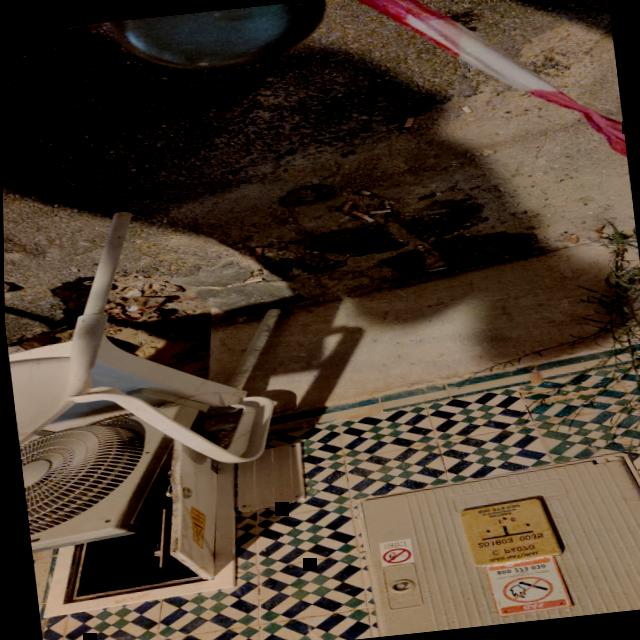Cigarette: (347, 209, 373, 221), (425, 264, 446, 271), (49, 323, 69, 330), (367, 207, 389, 213), (402, 115, 413, 126), (339, 200, 351, 209), (241, 277, 260, 282), (460, 104, 471, 112), (251, 246, 261, 254), (141, 282, 149, 288)
Plastic film: (122, 295, 166, 313)
